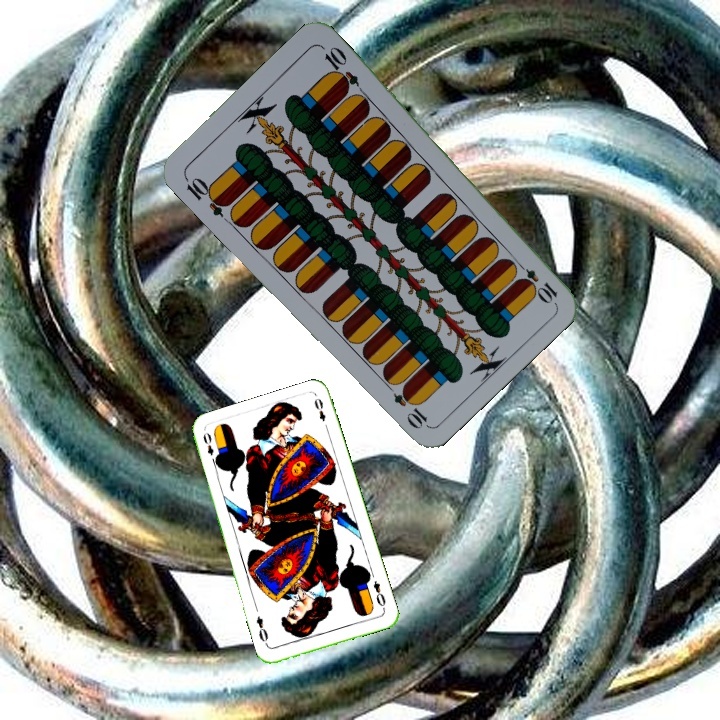E10: (180, 172, 232, 219), (510, 257, 560, 305)
EO: (369, 577, 388, 609), (199, 428, 216, 458)
